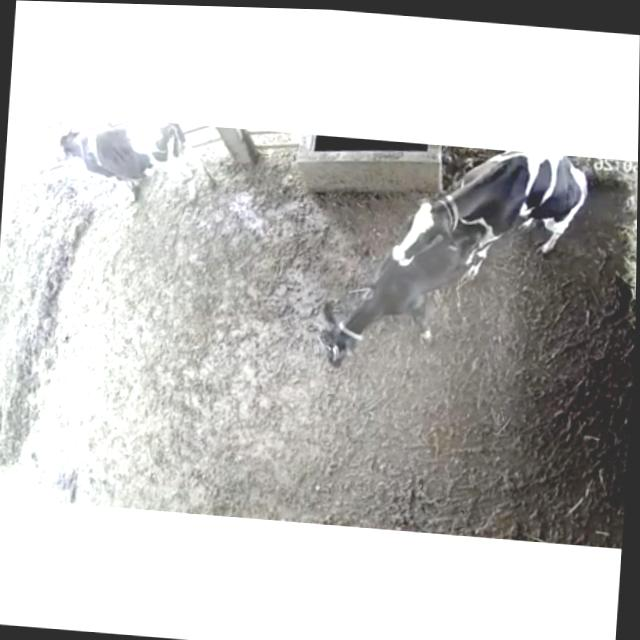ride: (376, 140, 608, 305)
